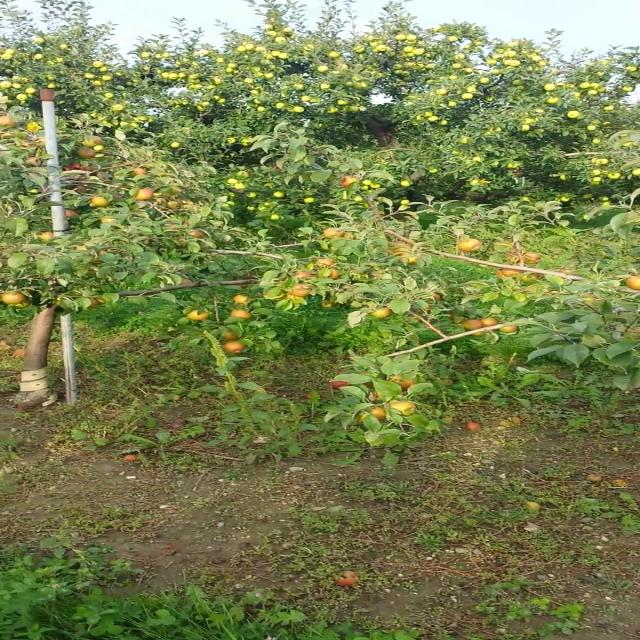apple: (388, 376, 414, 392), (389, 399, 416, 413), (459, 238, 481, 250), (1, 293, 24, 304), (76, 146, 97, 158), (223, 340, 243, 352), (462, 318, 482, 330), (187, 308, 207, 320), (263, 290, 286, 300), (625, 275, 639, 291), (230, 308, 252, 318), (91, 195, 109, 207), (138, 187, 154, 200), (523, 252, 541, 263), (292, 285, 311, 295), (372, 308, 391, 318), (323, 228, 342, 238), (64, 164, 87, 172), (371, 407, 384, 421), (315, 258, 333, 268), (341, 175, 356, 187), (84, 135, 102, 145), (12, 298, 30, 308), (234, 295, 252, 304), (285, 292, 305, 300), (1, 114, 14, 126), (502, 268, 521, 276), (294, 271, 313, 279), (495, 270, 509, 280), (166, 200, 179, 209), (483, 317, 497, 325), (134, 168, 148, 176), (40, 231, 53, 239), (405, 256, 418, 264), (339, 233, 356, 239), (87, 299, 97, 309), (66, 209, 78, 217), (100, 218, 116, 224), (334, 382, 350, 388), (501, 326, 516, 332), (329, 268, 338, 278), (188, 232, 202, 238), (223, 332, 237, 338), (27, 157, 39, 164), (76, 244, 90, 250), (321, 300, 331, 308), (431, 292, 441, 300), (1, 132, 11, 138), (97, 298, 107, 304), (99, 249, 108, 255), (472, 331, 484, 335)
